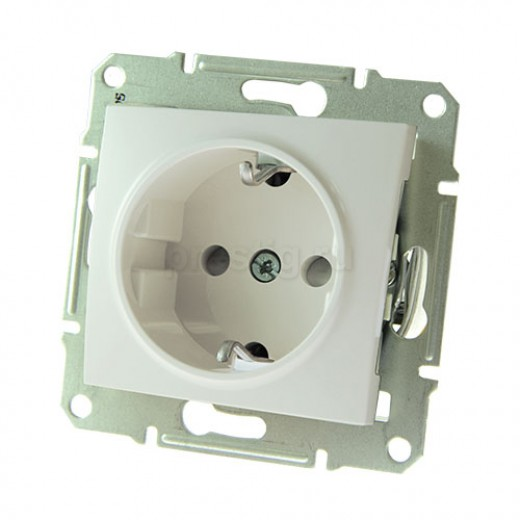raccoon: (112, 143, 342, 380)
